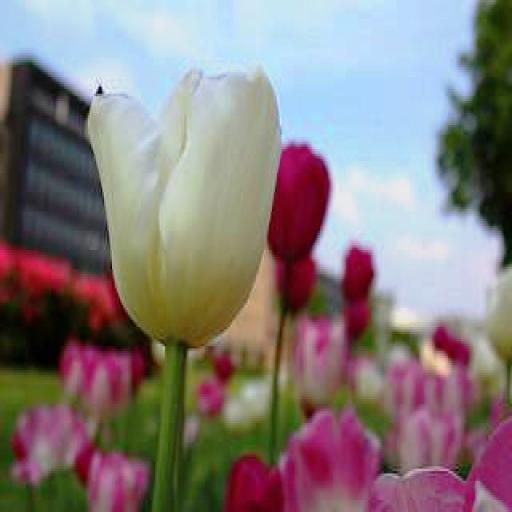tulip: (91, 65, 280, 348)
